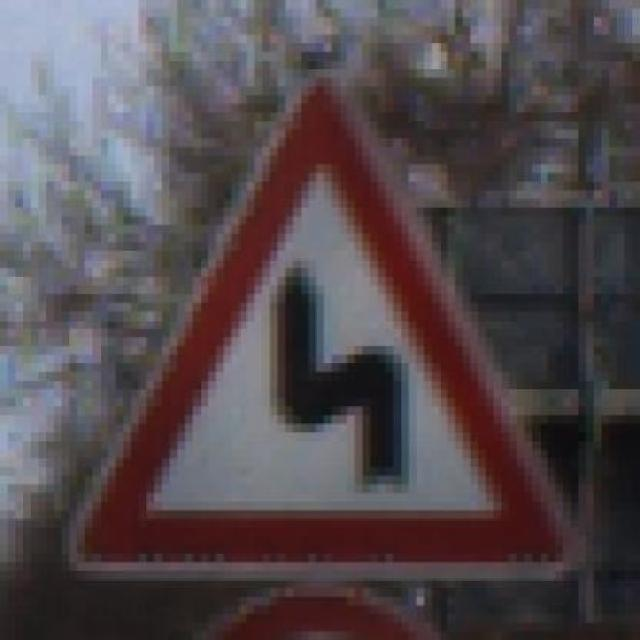Left Zig Zag Traffic: (61, 77, 594, 597)
